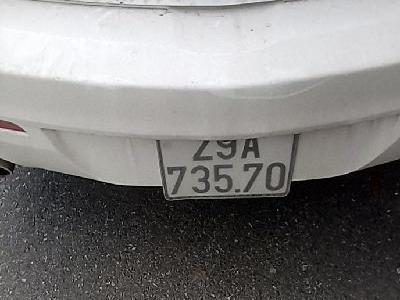car: (156, 135, 299, 202)
